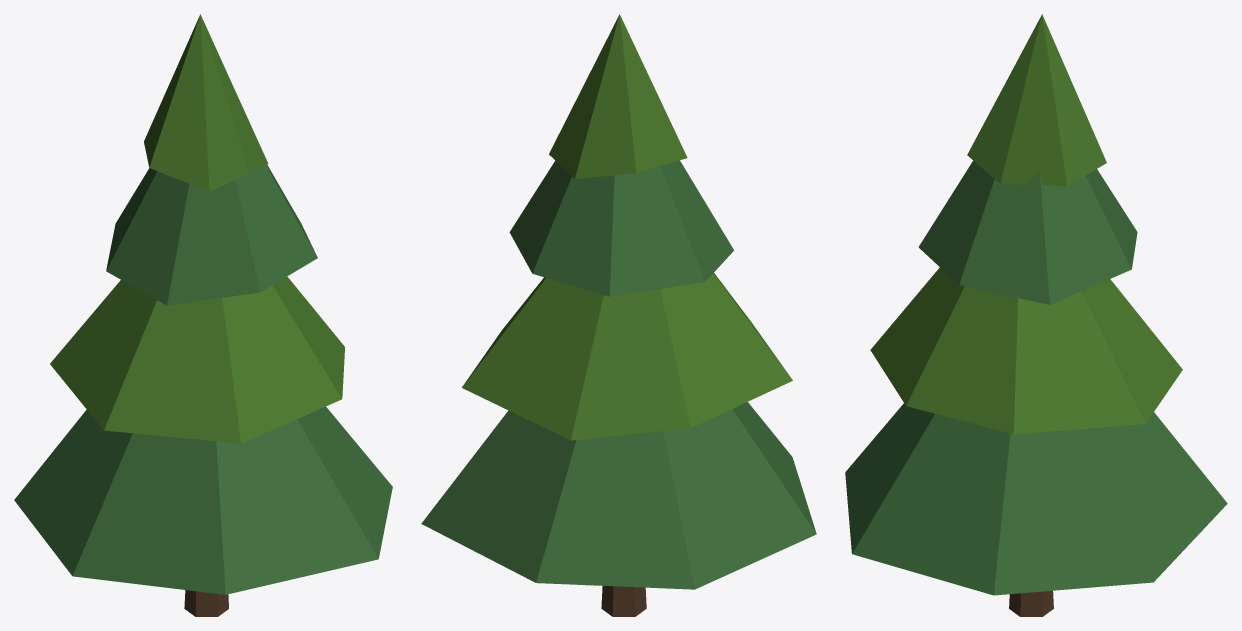
Rendered from SM_Pine_Tree_Tall.glb.
3 views of the same model, side by side, from view 1: azimuth 30°, elevation 25°; view 2: azimuth 150°, elevation 25°; view 3: azimuth 270°, elevation 25° (orthographic).
Visible parts, largest first — view 1: SM_Pine_Tree_Tall; view 2: SM_Pine_Tree_Tall; view 3: SM_Pine_Tree_Tall.
Part boxes in pixels (x1=…): SM_Pine_Tree_Tall: x1=14, y1=14, x2=392, y2=616; SM_Pine_Tree_Tall: x1=421, y1=14, x2=816, y2=616; SM_Pine_Tree_Tall: x1=845, y1=14, x2=1227, y2=616.
Bounding box in the file's own units: 1.87 × 3.21 × 1.87.
1 material, 1 textured.
